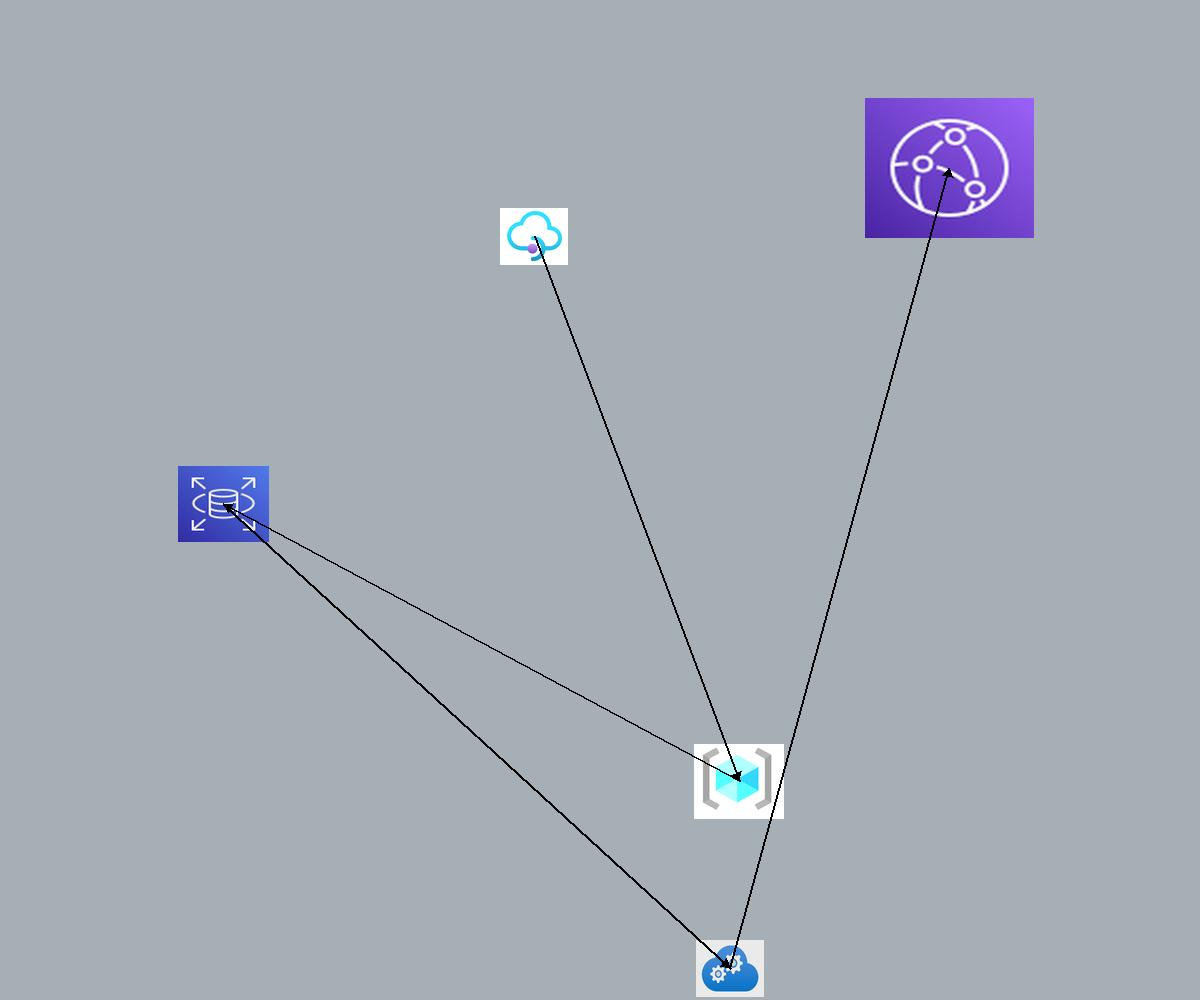AWS-CloudFront: (865, 98, 1034, 238)
AWS-RDS: (178, 466, 269, 542)
Azure_api_gateway: (500, 208, 568, 265)
Azure_cloud_services: (696, 940, 764, 997)
Azure_resource_group: (694, 744, 784, 819)
